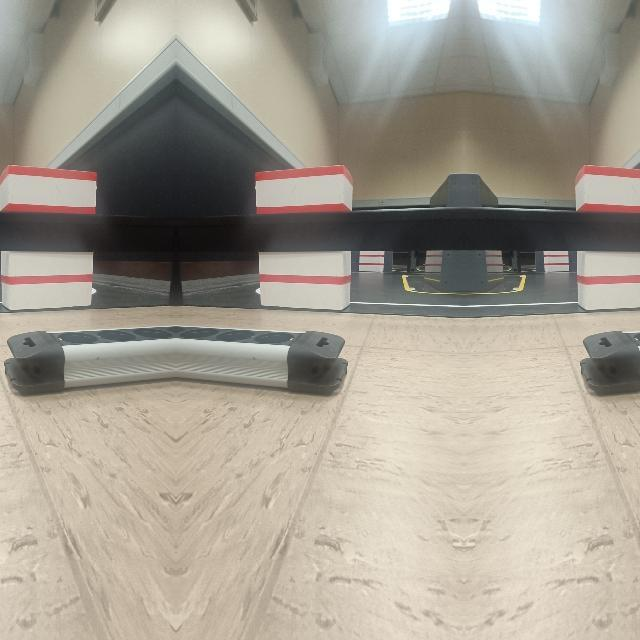obstacle: (175, 322, 347, 393), (3, 322, 175, 393), (580, 322, 640, 393)
